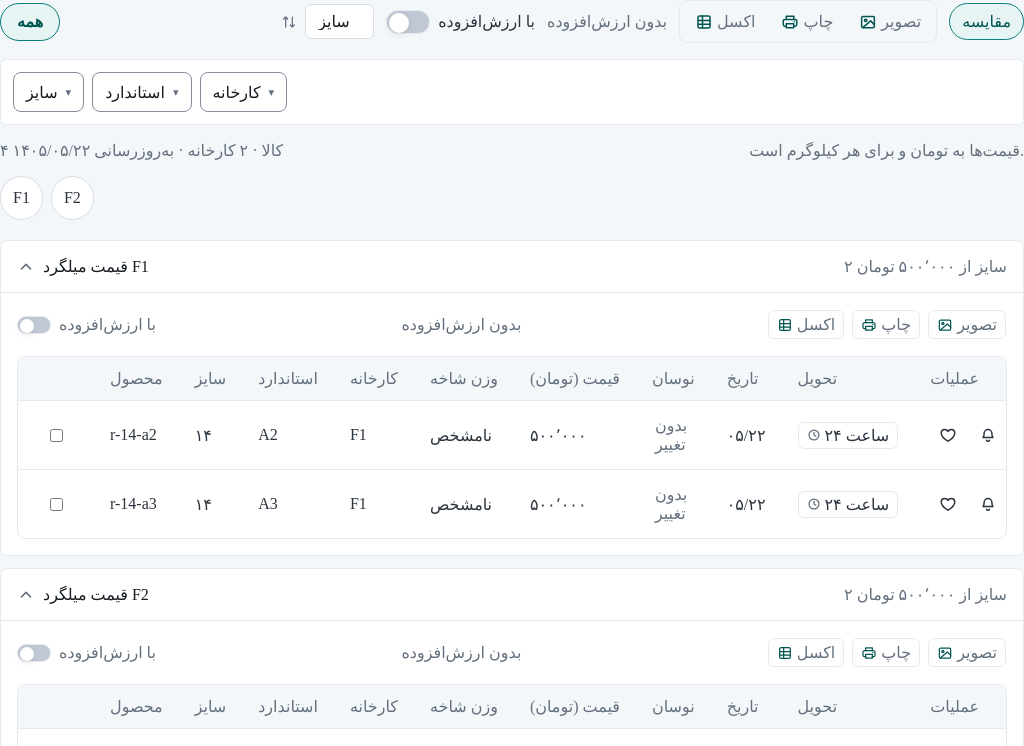
PriceTable — spec filter bar (owner request 1405/06/02) › shows the empty state and a working clear-filters action when a combination matches nothing
What coordinates should you click on to do the following:
click the button "سایز ▾"
I would click on:
 (49, 92)
Its box is [13,72,84,112].
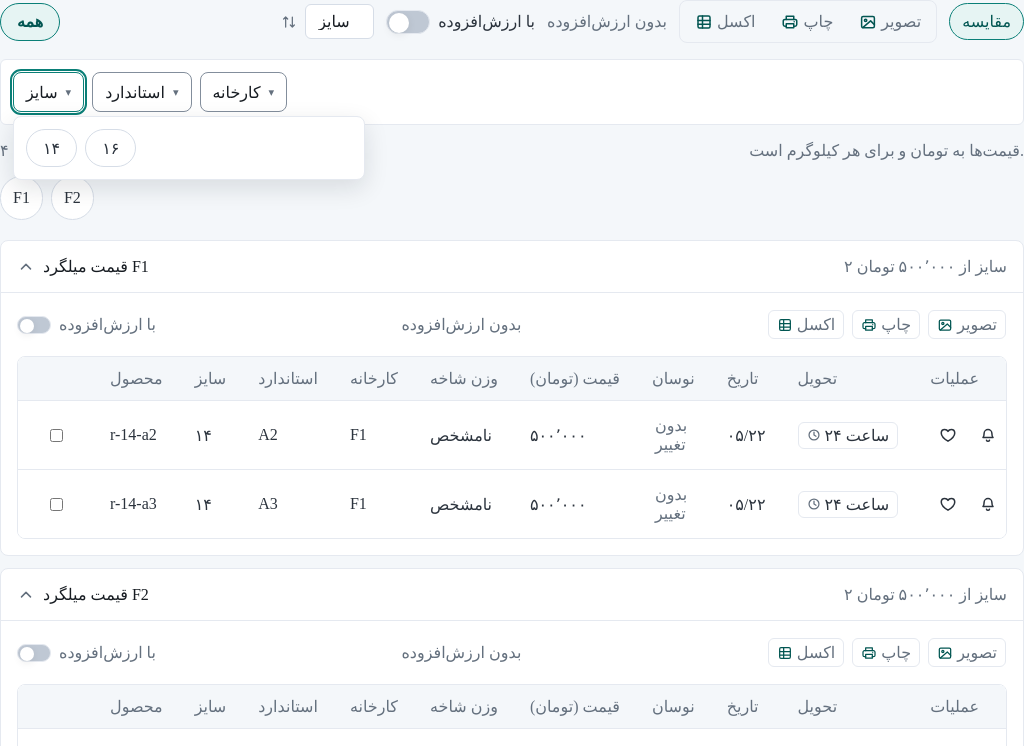
What coordinates should you click on to do the following:
click the button "۱۶"
I would click on:
 (111, 148)
Its box is [86,130,135,166].
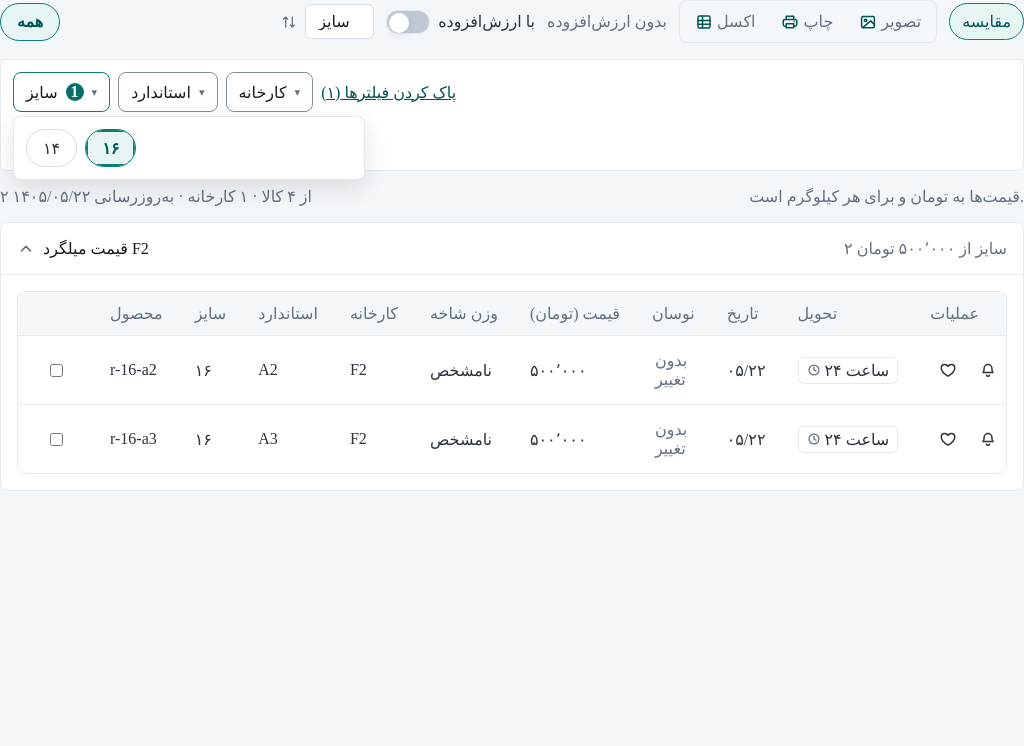
What coordinates should you click on to do the following:
click the button "کارخانه ▾"
I would click on:
 (269, 92)
Its box is [226,72,313,112].
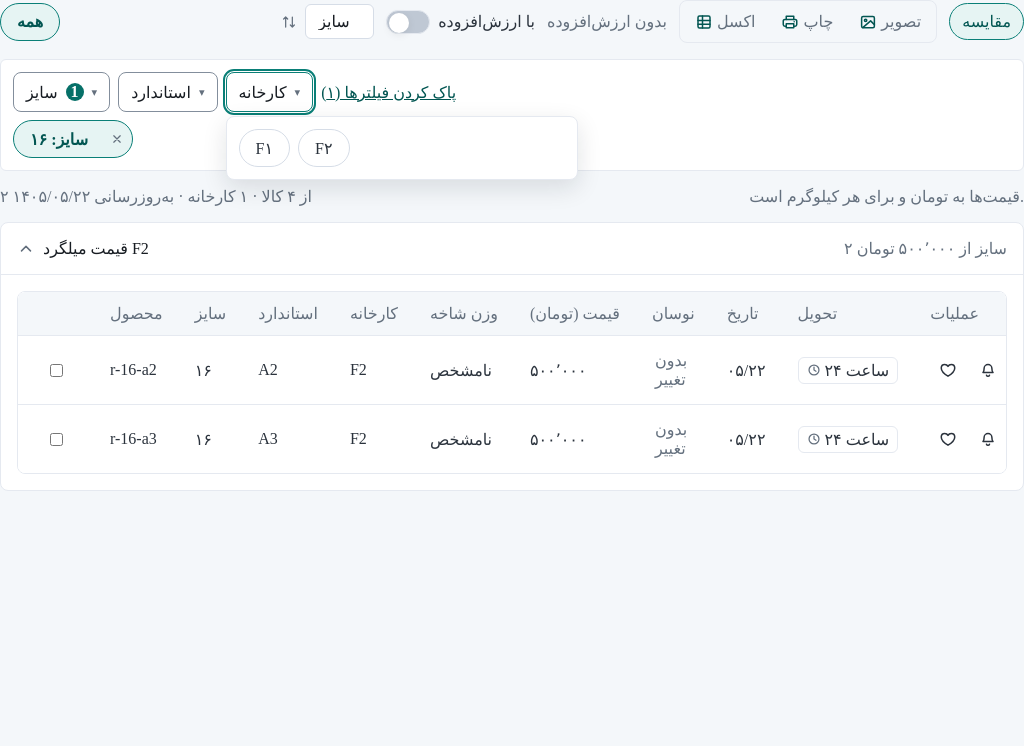
What coordinates should you click on to do the following:
click the button "F۱"
I would click on:
 (264, 148)
Its box is [240,130,289,166].
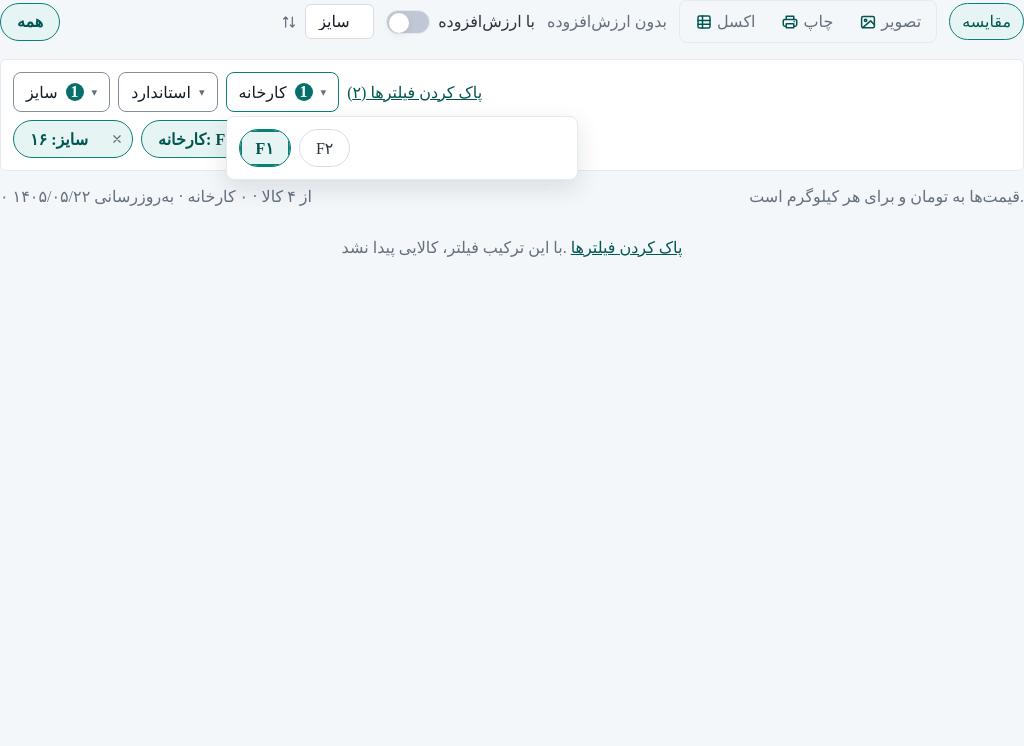
Check: the text "با این ترکیب فیلتر، کالایی پیدا نشد. پاک کردن فیلترها" is shown, box [342,238,682,257]
Check: the link "r-16-a2" is gone
Check: the link "r-16-a3" is gone
What coordinates should you click on to do the following:
click the button "پاک کردن فیلترها"
I would click on:
 (627, 248)
Its box is [571,238,682,257].
(page scrolled)
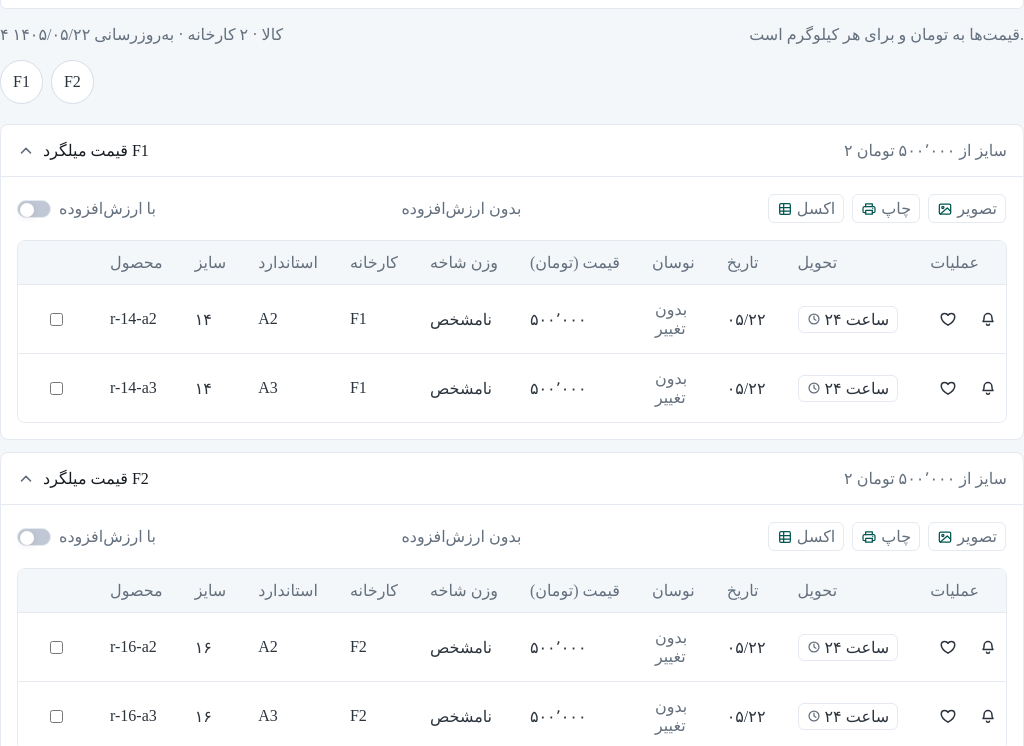
Check: the link "r-14-a2" is shown, box [110,310,157,327]
Check: the link "r-14-a3" is shown, box [110,379,157,396]
Check: the link "r-16-a2" is shown, box [110,638,157,655]
